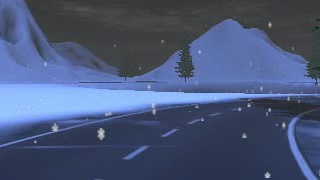Lane: (0, 94, 319, 179)
